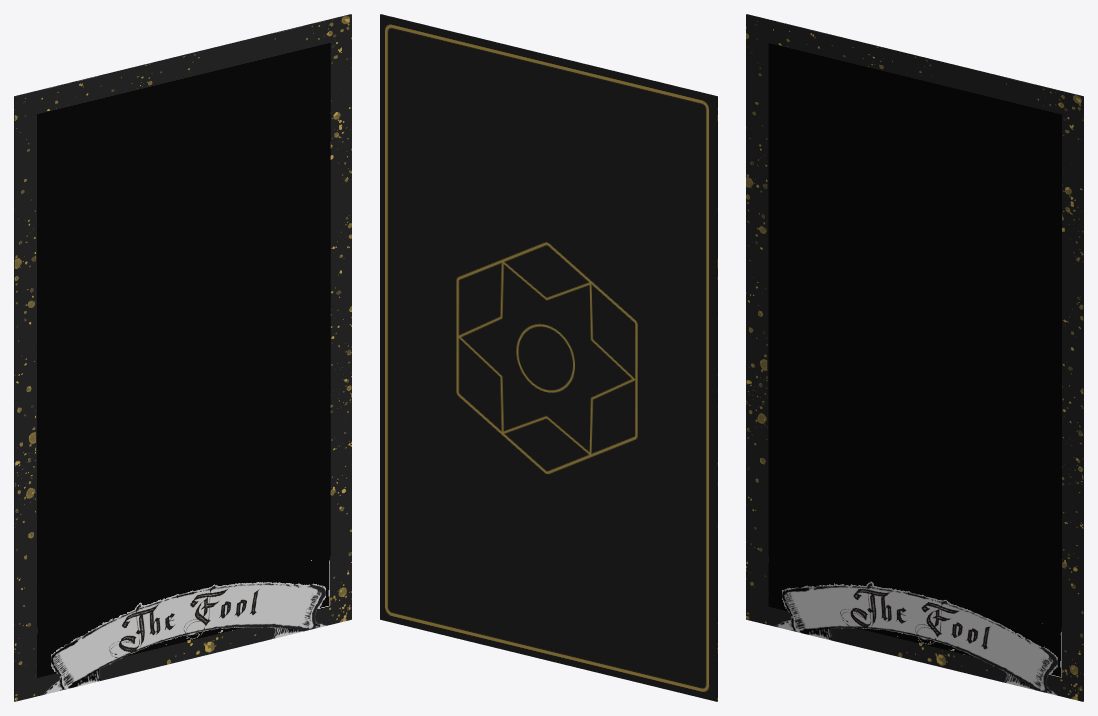
The model's file is CardFinal.glb.
The picture shows the model from 3 angles, left to right: view 1: azimuth 30°, elevation 25°; view 2: azimuth 150°, elevation 25°; view 3: azimuth 330°, elevation 25°; orthographic projection.
Visible parts, largest first — view 1: Cardback; view 2: Cardback; view 3: Cardback.
Boxes of the visible parts, left/top/right/bottom form: Cardback: left=14, top=14, right=351, bottom=701; Cardback: left=380, top=14, right=717, bottom=701; Cardback: left=746, top=14, right=1083, bottom=701.
Bounding box in the file's own units: 0.07 × 0.12 × 0.0002.
3 materials, 3 textured.
